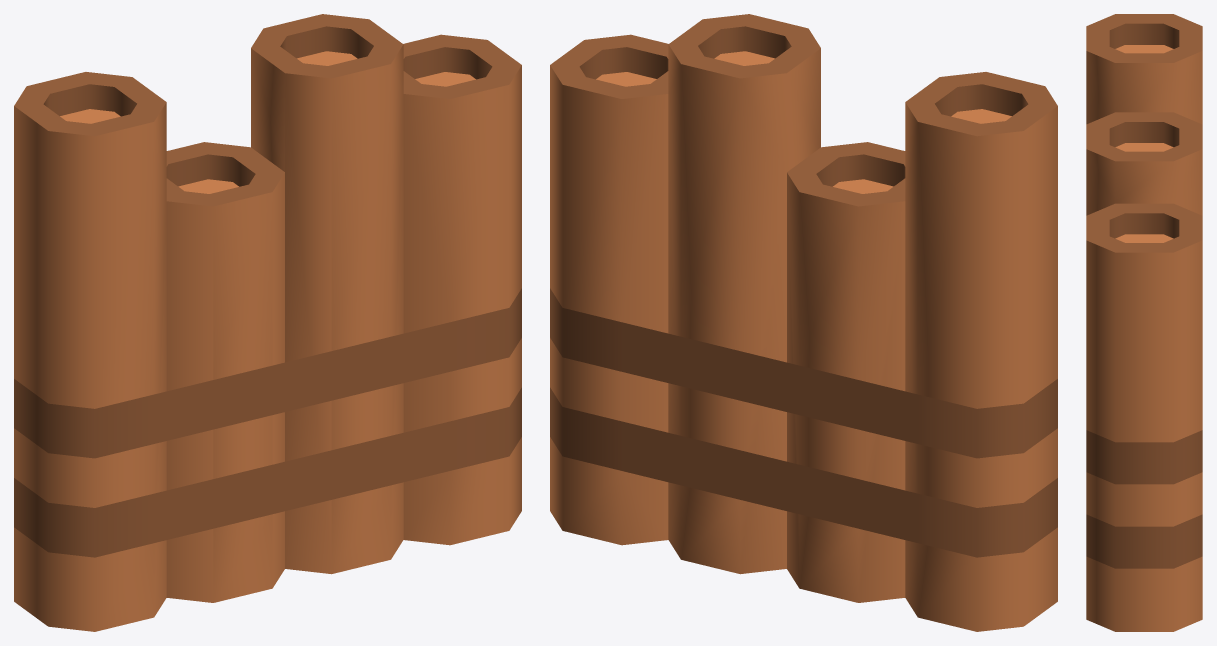
The model's file is poles.fbx.
The picture shows the model from 3 angles, left to right: view 1: azimuth 30°, elevation 25°; view 2: azimuth 150°, elevation 25°; view 3: azimuth 270°, elevation 25°; orthographic projection. The views are drawn at different scales.
Parts seen in each view (by area): view 1: poles; view 2: poles; view 3: poles.
Boxes of the visible parts, x1,y1,x2,y2 form: poles: (14,14,521,631); poles: (550,14,1057,631); poles: (1086,14,1202,631).
Size of the model in its own units: 10 by 10 by 2.5.
